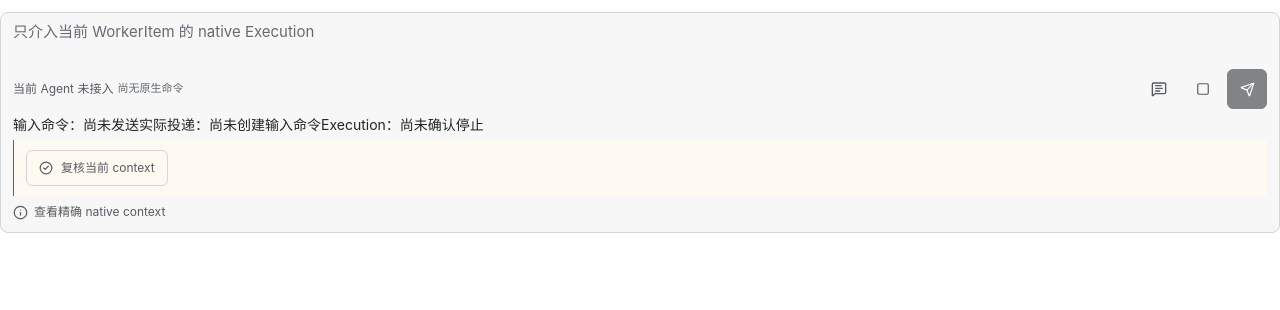
Scenario: NativeWorkerComposer › enables reviewed Send in rendered UI during streaming and posts the latest observation once
Expected: the button named "发送到当前 Session" is disabled, [1227,69,1267,109]
In the text box named "介入这个 Worker": (640, 43) [13,21,1267,65], type "send while observations stream"
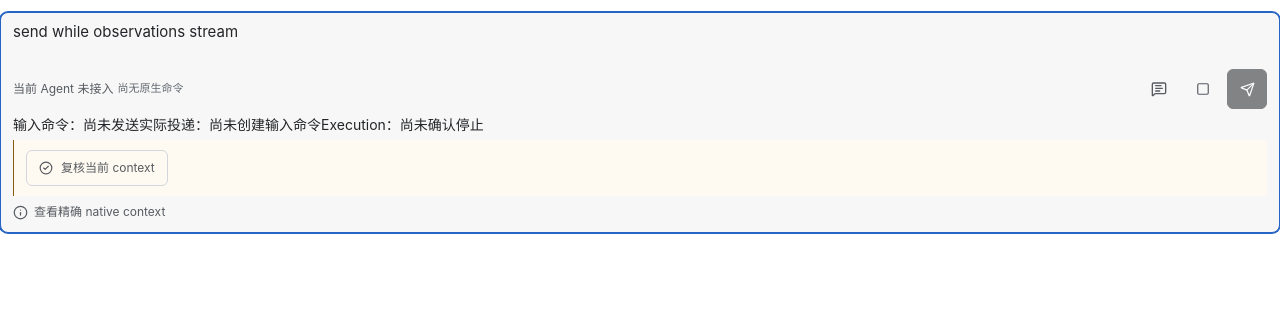
Click the button "复核当前 context": (97, 168) [26,150,168,186]
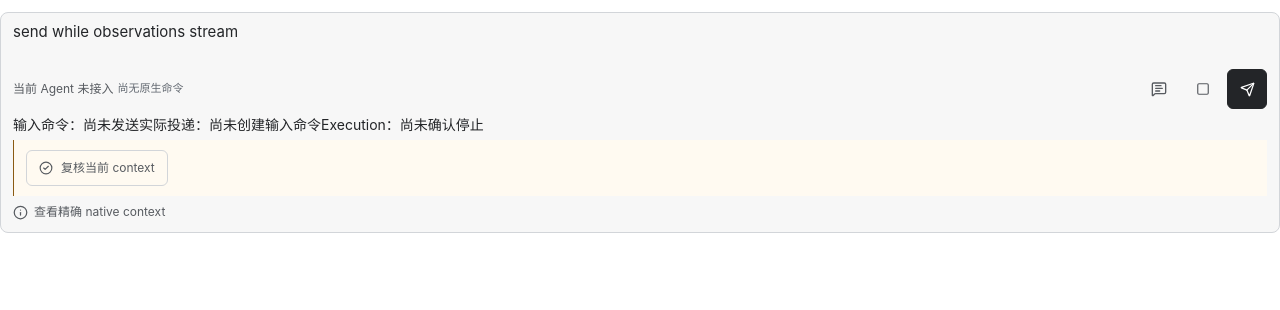
Expected: the button named "发送到当前 Session" is enabled
Click the button named "发送到当前 Session": (1247, 89) [1227,69,1267,109]
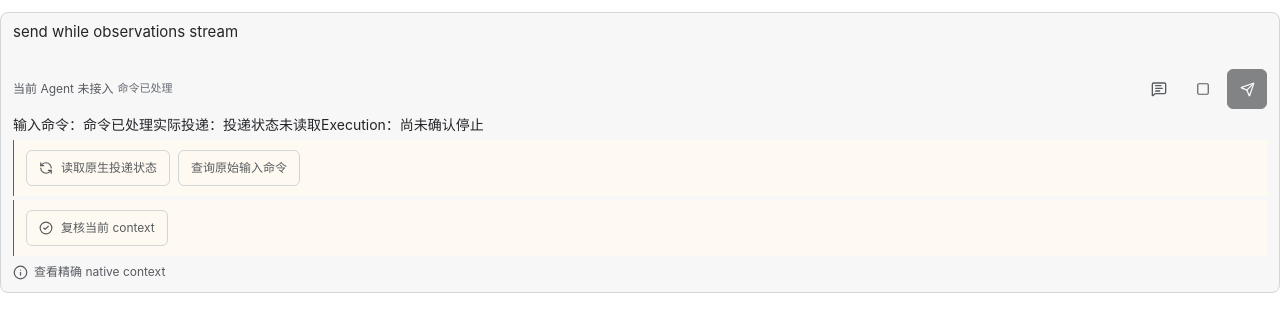
Expected: the message reads "命令已处理", [117,83,172,95]
Expected: the button named "发送到当前 Session" is disabled, [1227,69,1267,109]
